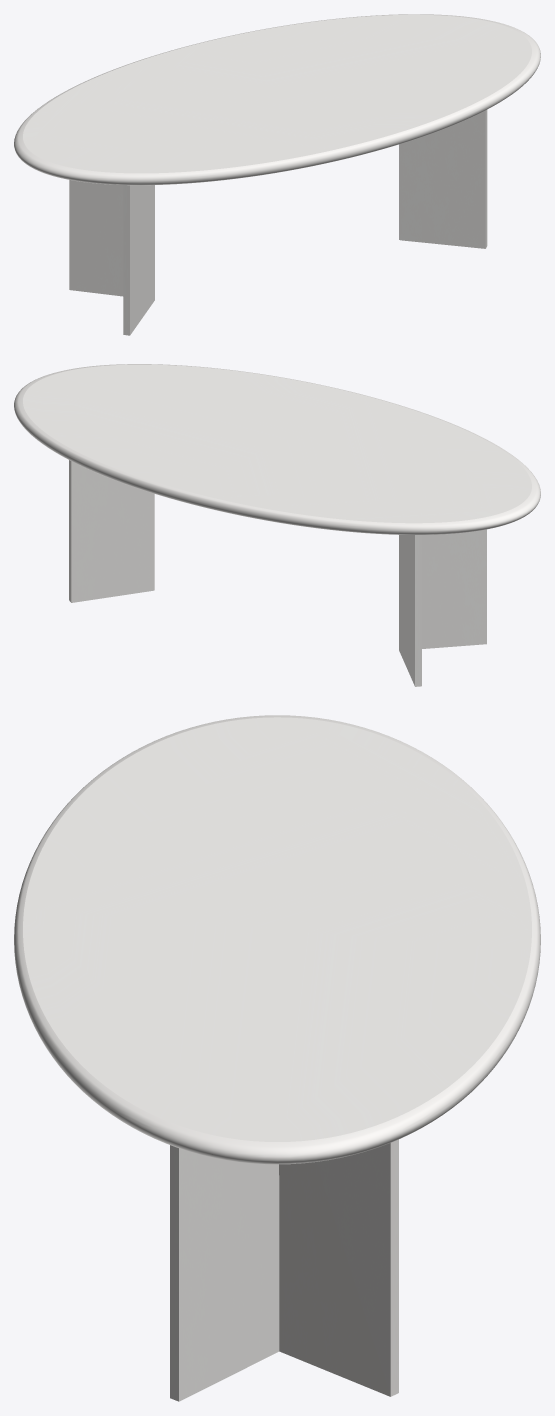
Rendered from purewhite_ellips_round_valleyv.glb.
3 views of the same model, one above another, from view 1: azimuth 30°, elevation 25°; view 2: azimuth 150°, elevation 25°; view 3: azimuth 270°, elevation 25° (orthographic). The views are drawn at different scales.
Visible parts, largest first — view 1: round_ellips, valleyv; view 2: round_ellips, valleyv; view 3: round_ellips, valleyv.
Boxes of the visible parts, <box> form: round_ellips: <box>14,14,540,185</box>; valleyv: <box>69,110,487,335</box>; round_ellips: <box>14,364,540,534</box>; valleyv: <box>69,460,486,686</box>; round_ellips: <box>14,715,540,1164</box>; valleyv: <box>170,1139,398,1401</box>.
Bounding box in the file's own units: 7.5 × 2.5 × 3.8.
1 material, 1 textured.
